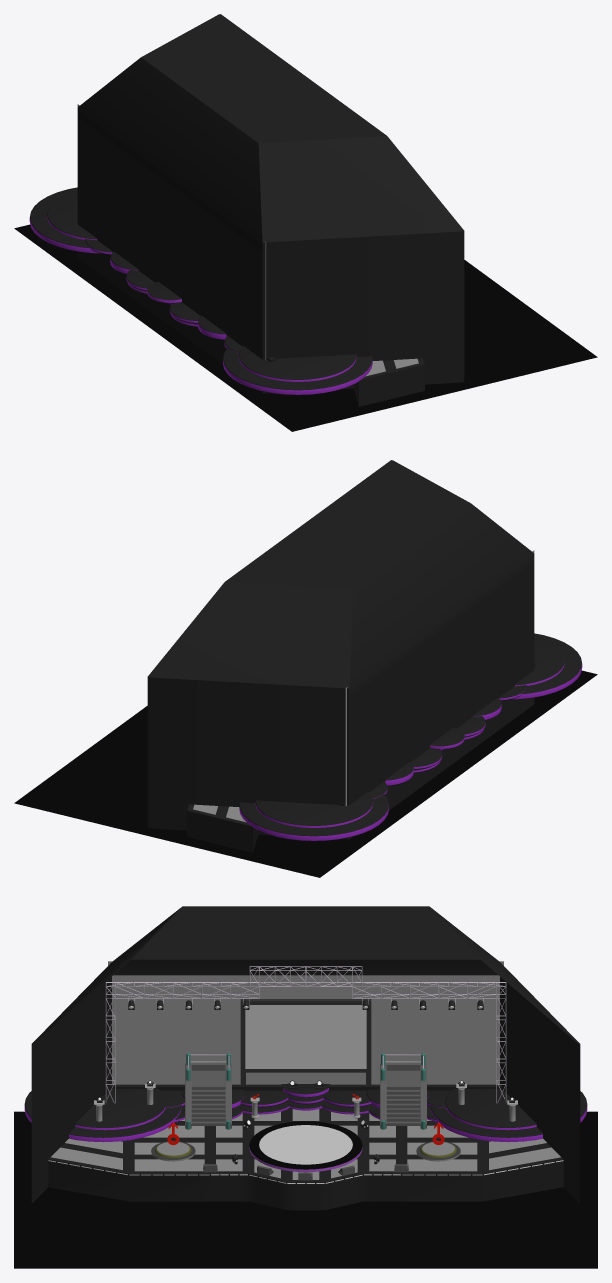
Rendered from panggung32.obj.
3 views of the same model, one above another, from view 1: azimuth 30°, elevation 25°; view 2: azimuth 150°, elevation 25°; view 3: azimuth 270°, elevation 25° (orthographic). The views are drawn at different scales.
Visible parts, largest first — view 1: panggung, lantai, Cylinder.7, Cylinder.6, Cylinder.5_1, Cylinder_1; view 2: panggung, lantai, Cylinder.7, Cylinder.6, Cylinder.5_1, Cylinder_1; view 3: panggung, lantai, Plane, Cube.1_9, Cylinder.6, palang_putih, utama, Cylinder.7, Cube.1_3, Cube.2, pangung_kecil, Cylinder.5_1 (+2 smaller).
Boxes of the visible parts, <box> form: panggung: <box>77,14,464,406</box>; lantai: <box>14,224,597,431</box>; Cylinder.7: <box>29,187,372,395</box>; Cylinder.6: <box>47,192,356,381</box>; Cylinder.5_1: <box>126,270,200,323</box>; Cylinder_1: <box>110,251,226,339</box>; panggung: <box>147,460,535,852</box>; lantai: <box>14,670,597,877</box>; Cylinder.7: <box>239,633,582,841</box>; Cylinder.6: <box>255,638,564,827</box>; Cylinder.5_1: <box>411,716,485,769</box>; Cylinder_1: <box>385,697,501,785</box>; panggung: <box>31,906,580,1210</box>; lantai: <box>14,1111,597,1268</box>; Plane: <box>108,961,503,1084</box>; Cube.1_9: <box>245,1005,366,1068</box>; Cylinder.6: <box>75,1089,536,1130</box>; palang_putih: <box>105,966,506,1103</box>; utama: <box>249,1121,362,1172</box>; Cylinder.7: <box>24,1091,587,1142</box>; Cube.1_3: <box>185,1063,426,1128</box>; Cube.2: <box>240,999,371,1086</box>; pangung_kecil: <box>151,1141,460,1161</box>; Cylinder.5_1: <box>240,1090,371,1107</box>.
Bounding box in the file's own units: 8171 × 5287 × 12202.
